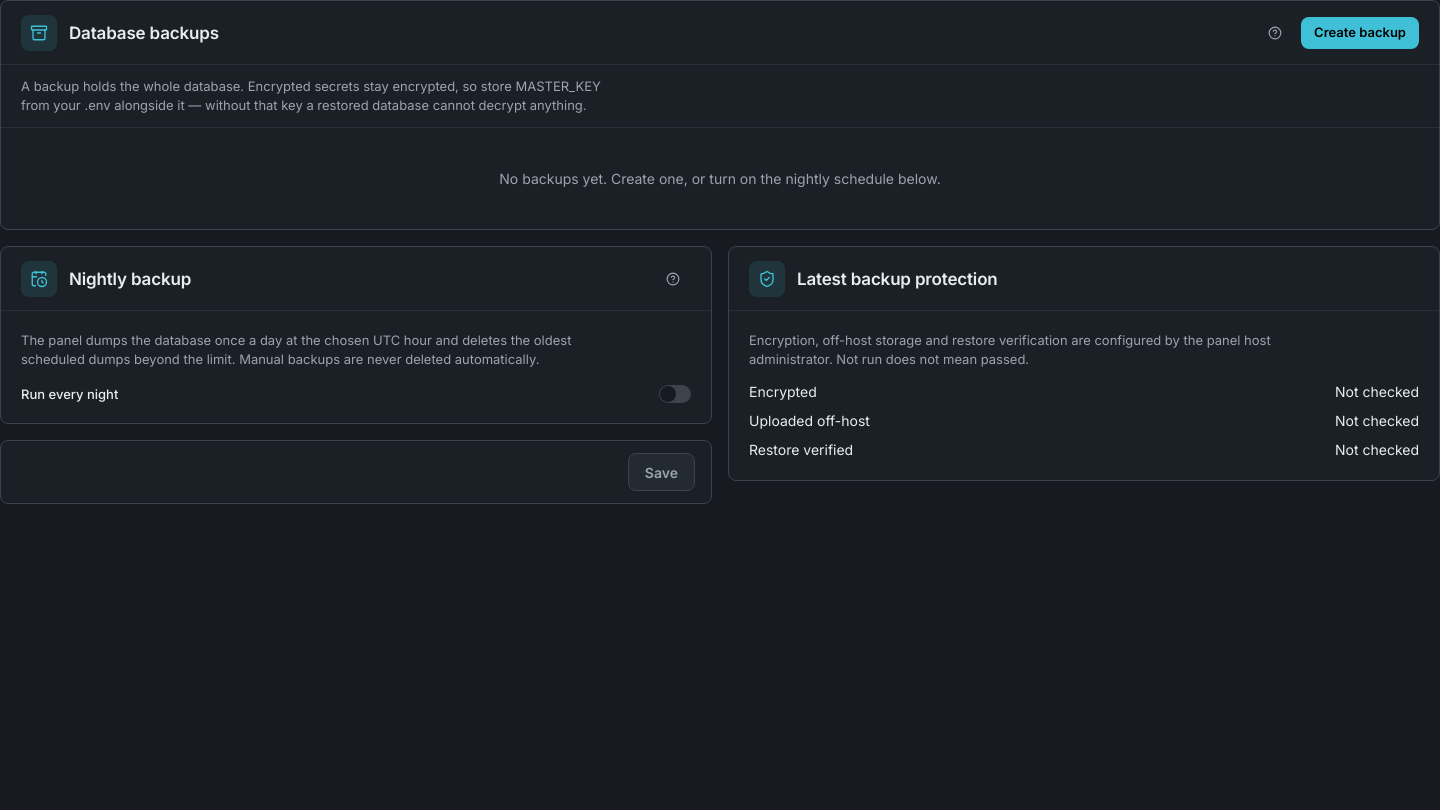
Test: BackupsForm › creates a backup and reports a run that is already in progress
This screenshot has width=1440, height=810.
Expected: the text "No backups yet" is shown, [499,170,941,187]
Click the button "Create backup" at (1360, 32), box [1301,16,1419,48]
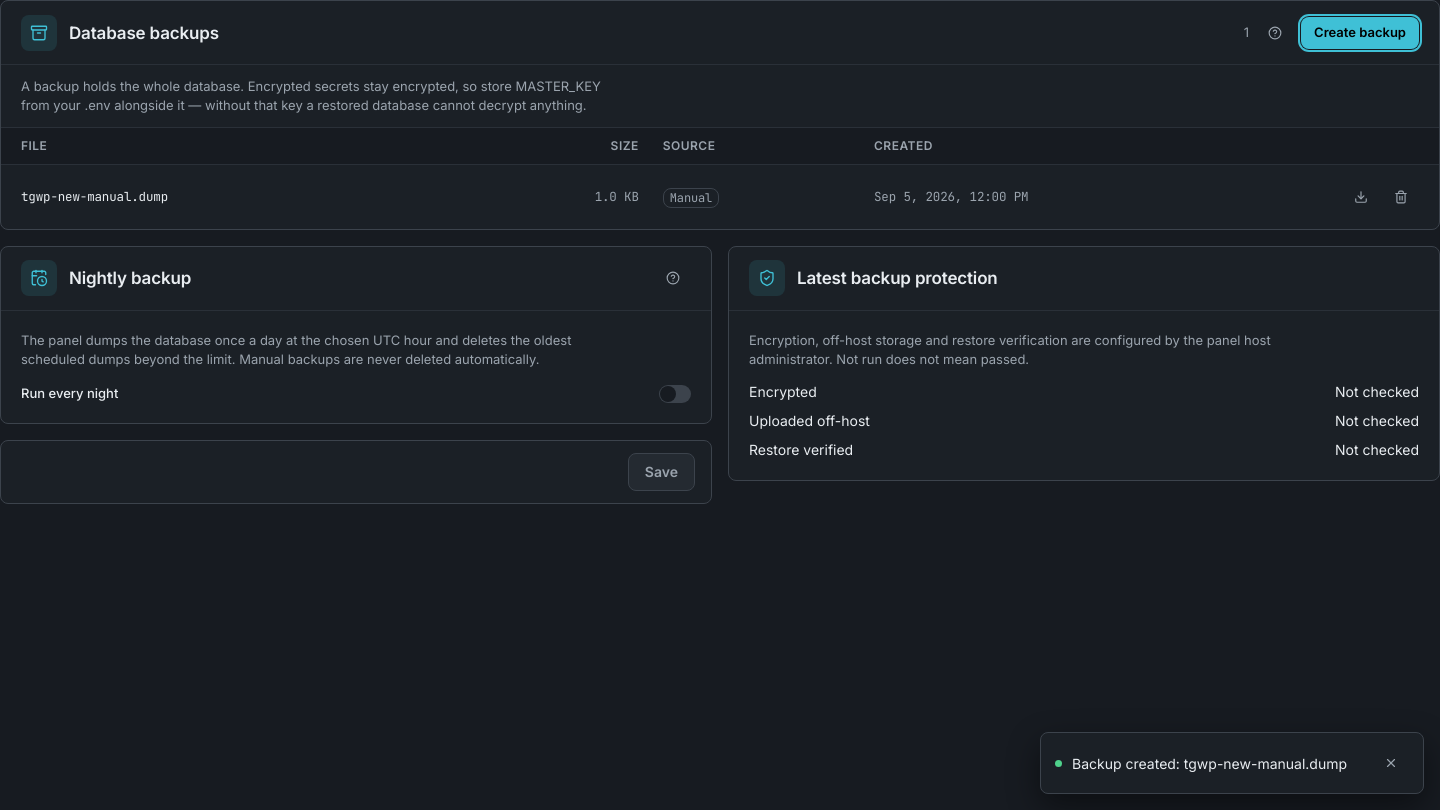
Expected: the text "tgwp-new-manual.dump" is shown, [1,164,472,228]
Click the button "Create backup" at (1360, 32), box [1301,16,1419,48]
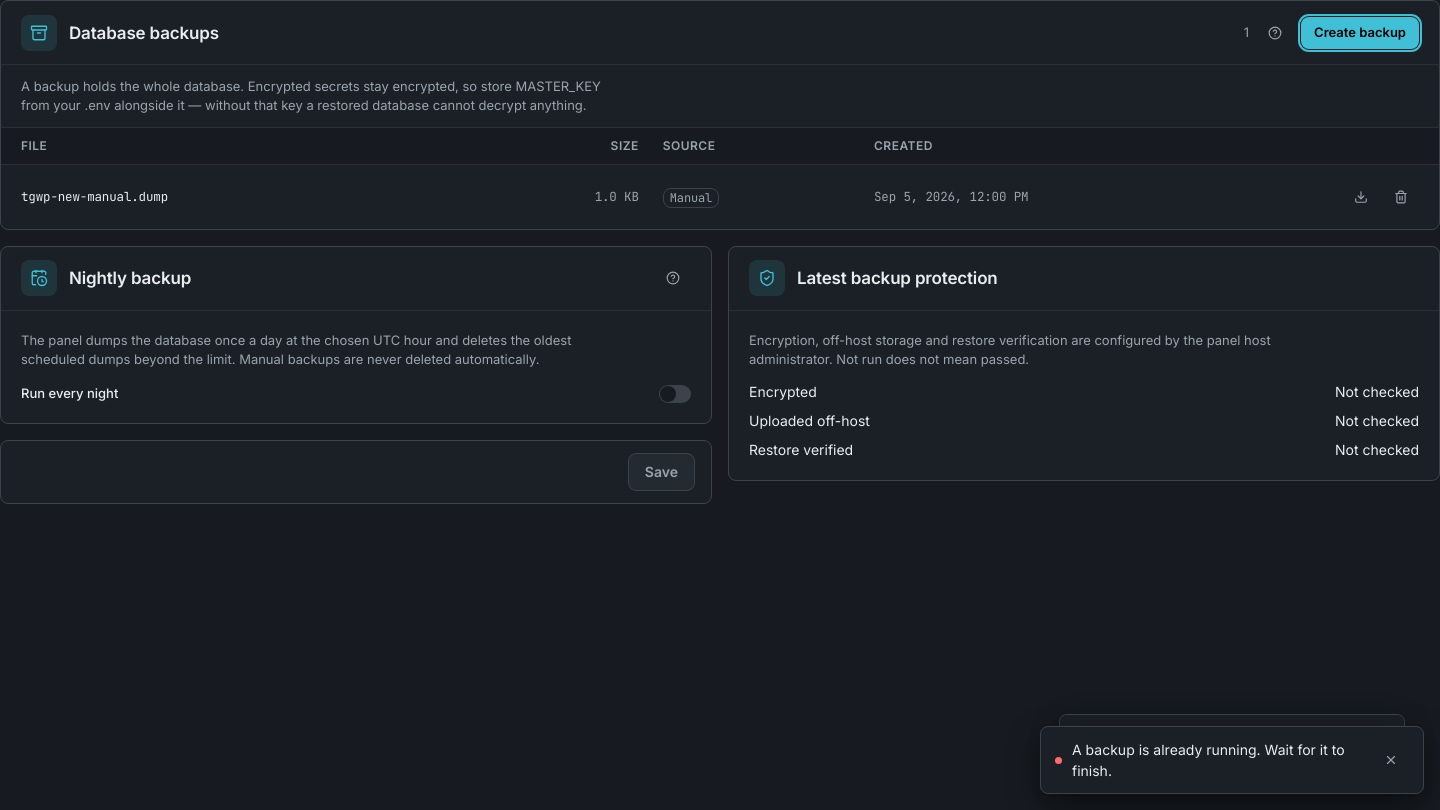
Expected: the text "A backup is already running. Wait for it to finish." is shown, [1072,739,1363,781]
